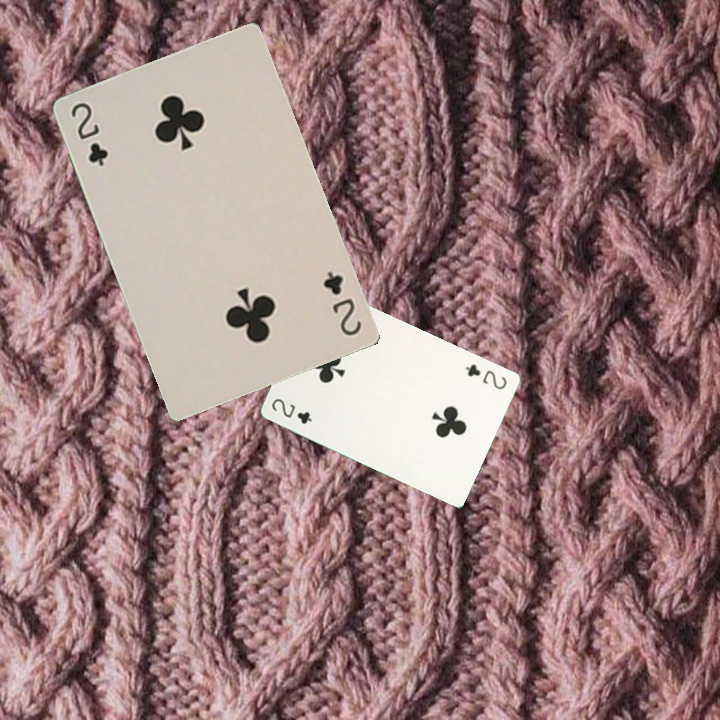2c: (319, 267, 365, 339), (67, 98, 111, 169), (267, 394, 315, 427), (461, 360, 509, 392)
